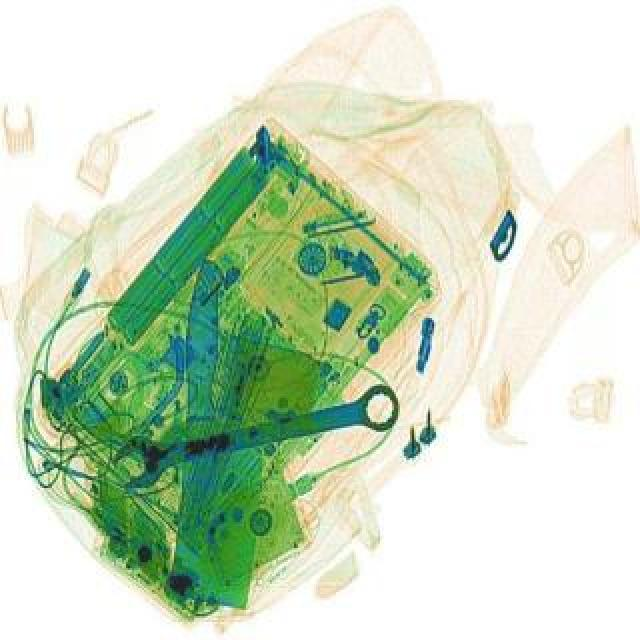knife: (154, 256, 286, 606)
scissors: (106, 378, 406, 490)
